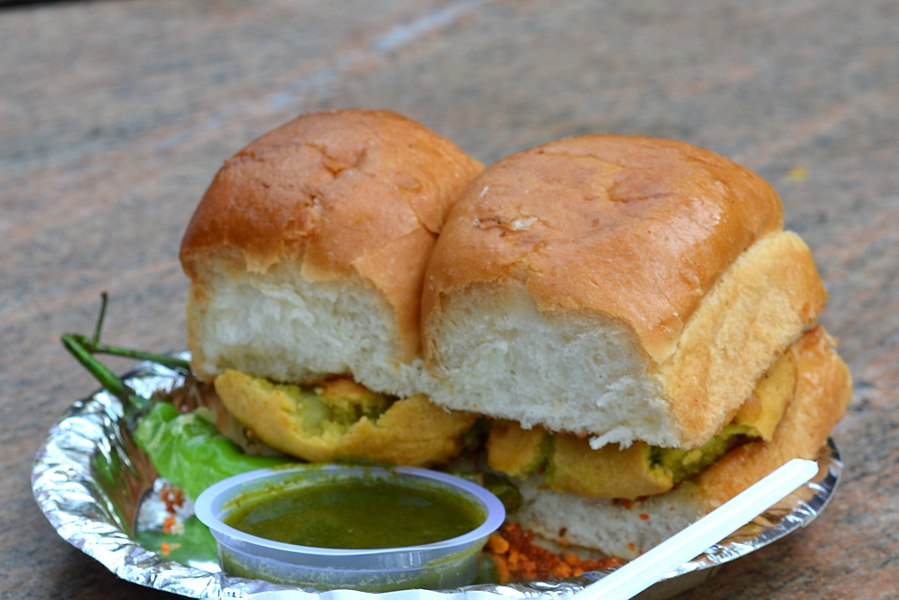vada pav: (507, 128, 685, 533)
